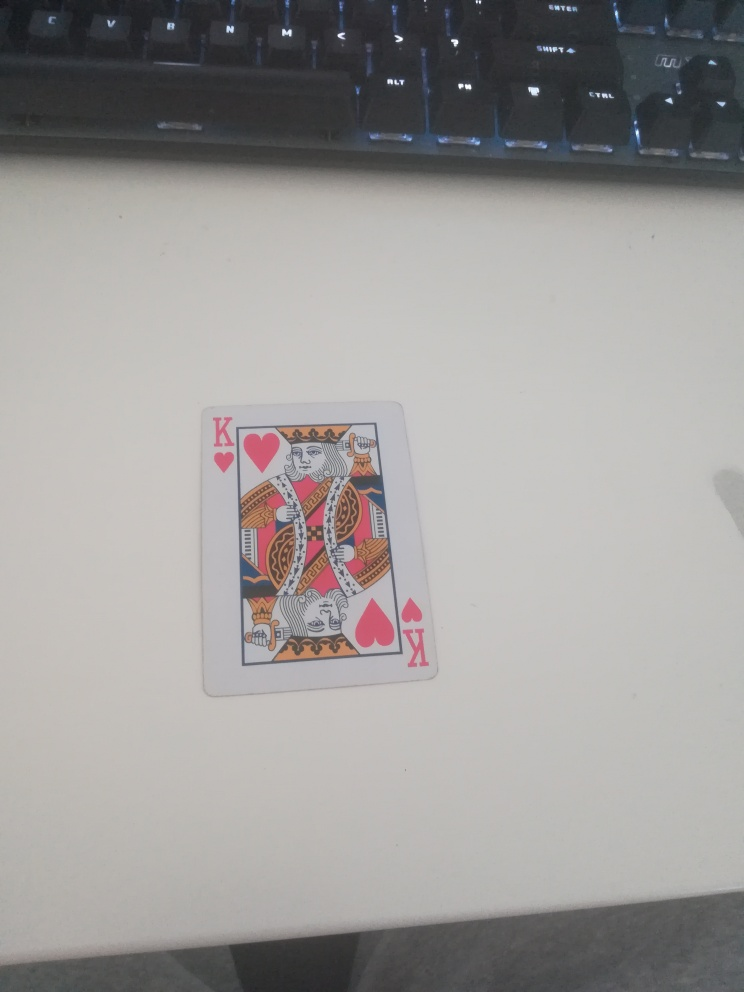KH: (204, 407, 242, 477)
